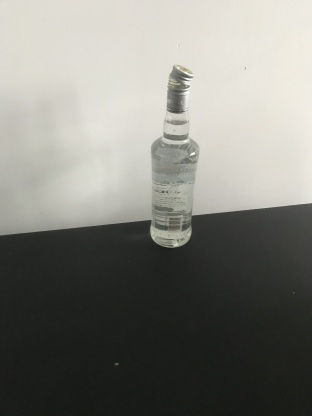nakretka: (165, 62, 195, 114)
